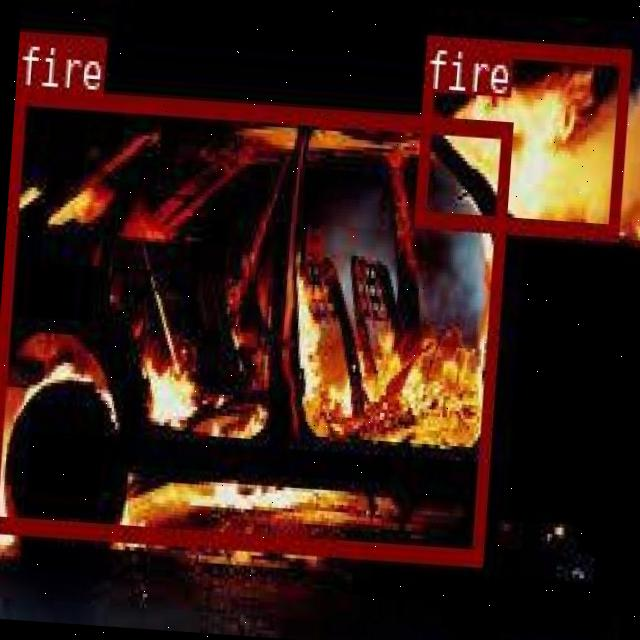fire: (0, 85, 508, 561), (414, 32, 630, 238)
